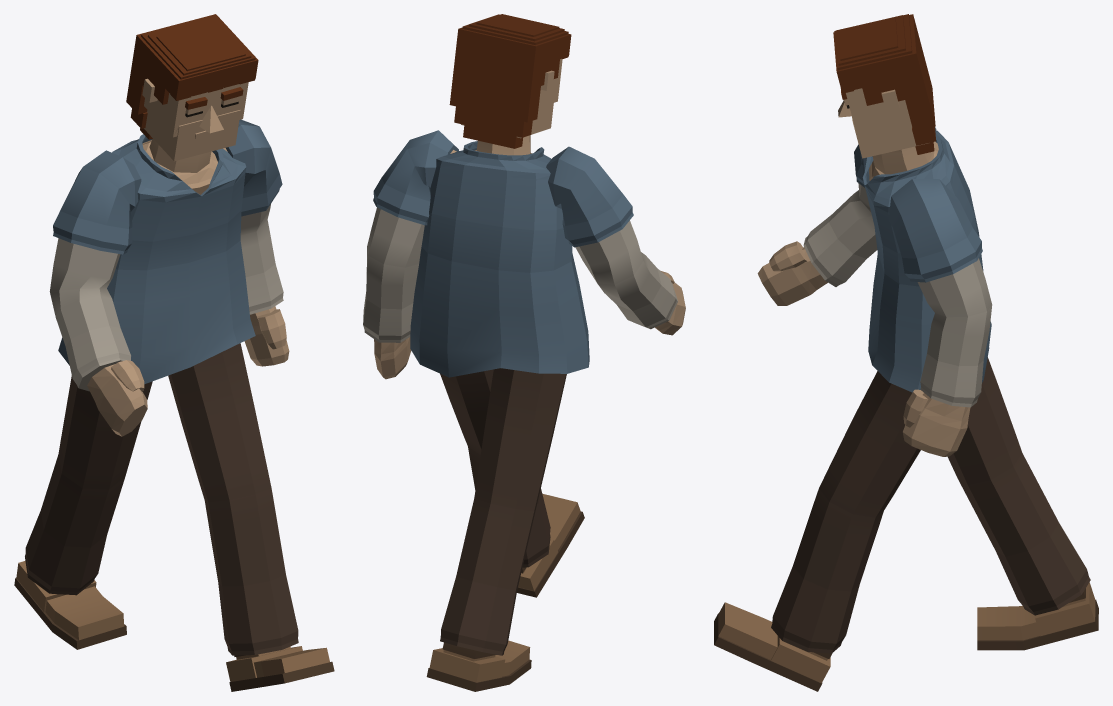
Rendered from suburban-resident-a9db9c__walk0.glb.
3 renders of one model, left to right at view 1: azimuth 30°, elevation 25°; view 2: azimuth 150°, elevation 25°; view 3: azimuth 270°, elevation 25°, orthographic. The views are drawn at different scales.
Visible parts, largest first — view 1: suburban-resident-a9db9c__walk0; view 2: suburban-resident-a9db9c__walk0; view 3: suburban-resident-a9db9c__walk0.
Boxes of the visible parts, box(x1,y1,x2,y2) form: suburban-resident-a9db9c__walk0: box(14, 14, 334, 691); suburban-resident-a9db9c__walk0: box(363, 14, 685, 691); suburban-resident-a9db9c__walk0: box(714, 14, 1098, 691).
Size of the model in its own units: 0.7423 by 1.69 by 0.9332.
